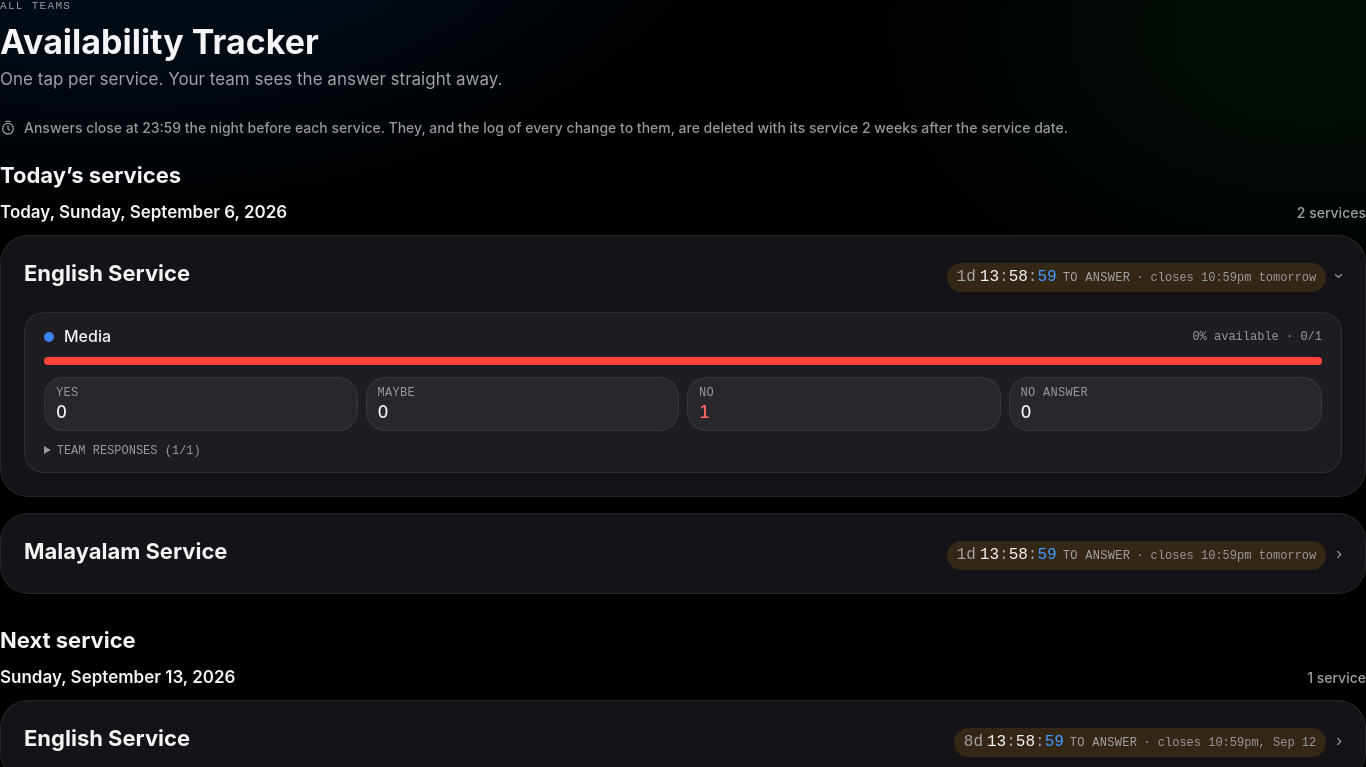
Test: the history of somebody’s answer › shows Overwatch on no team the team’s answers and their history, and asks it nothing
Click the heading "Team responses (1/1)".
click(129, 451)  # box [57,444,201,458]
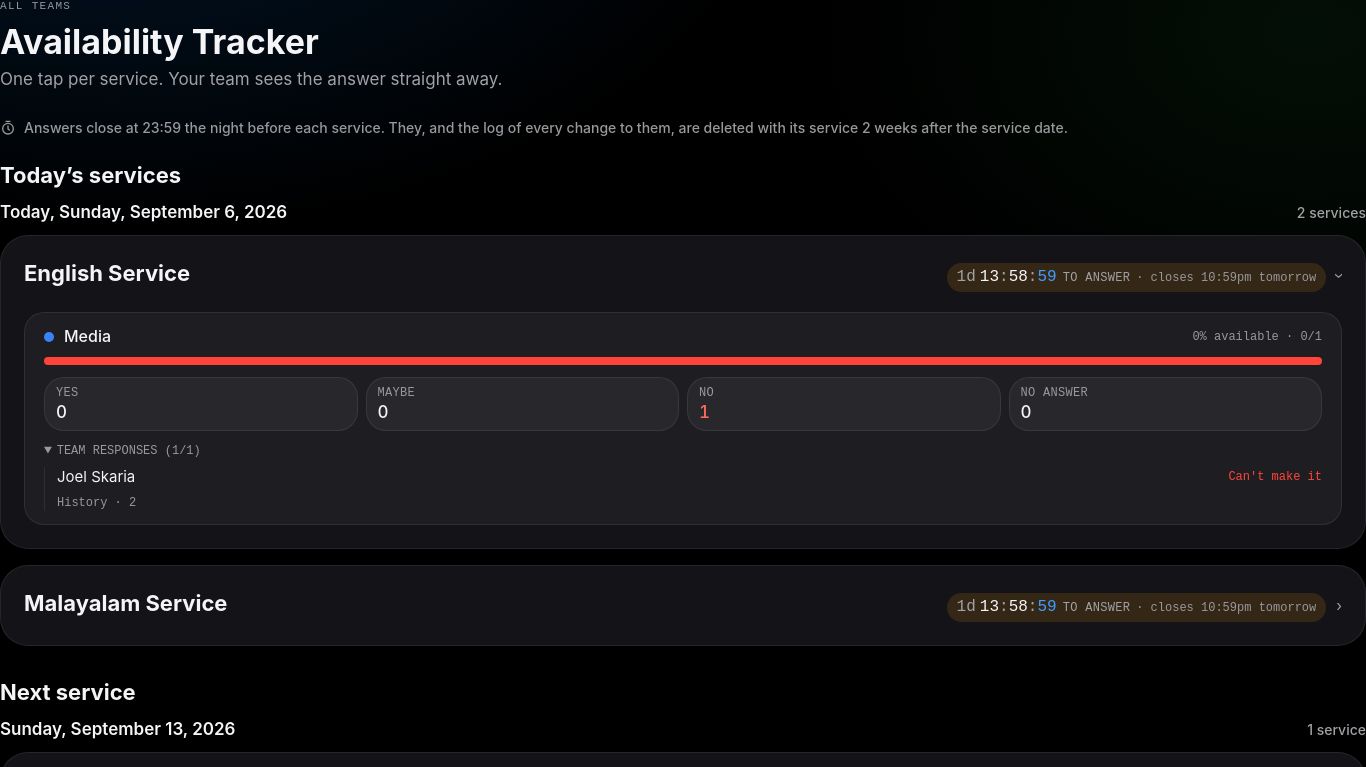
Click the button "History · 2".
click(97, 503)  # box [57,495,136,511]
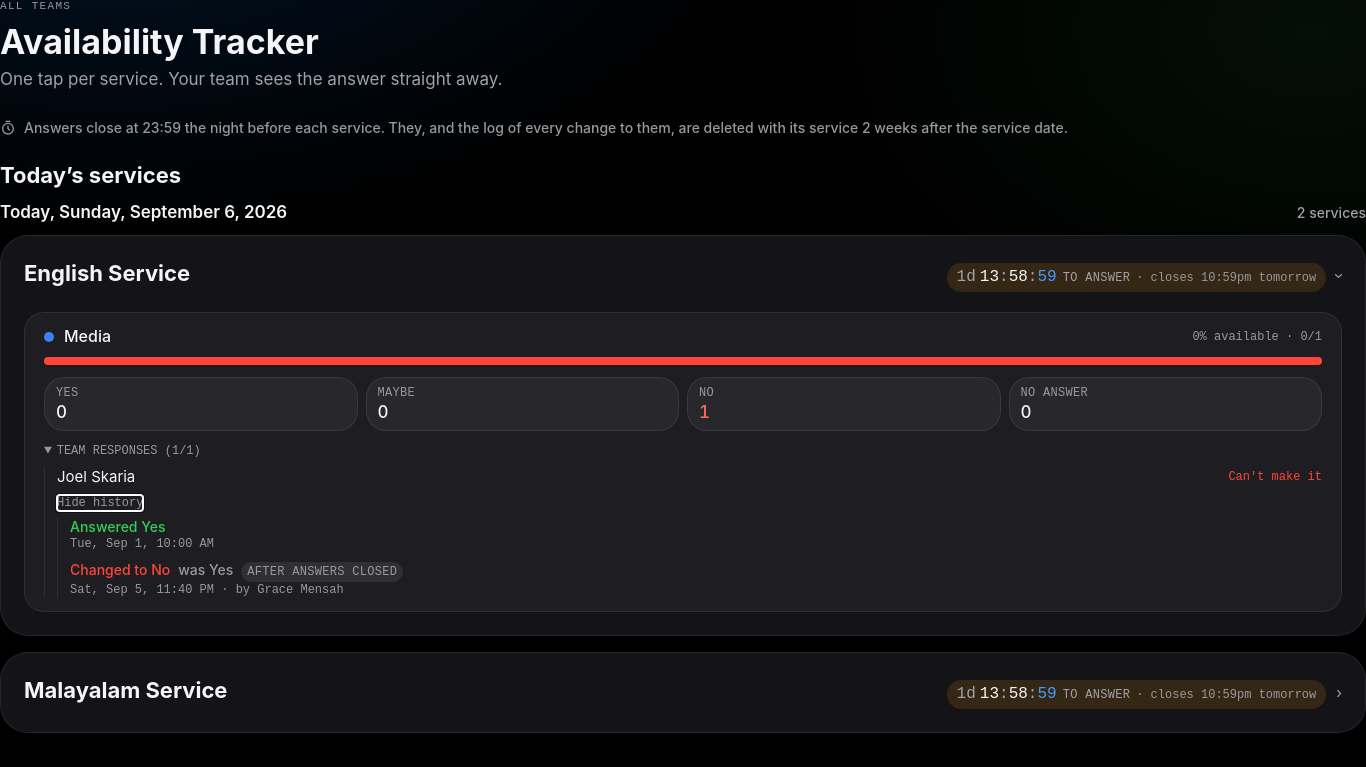
Expected: the list named "History of Joel Skaria’s answer" is shown, [57,517,1322,598]
